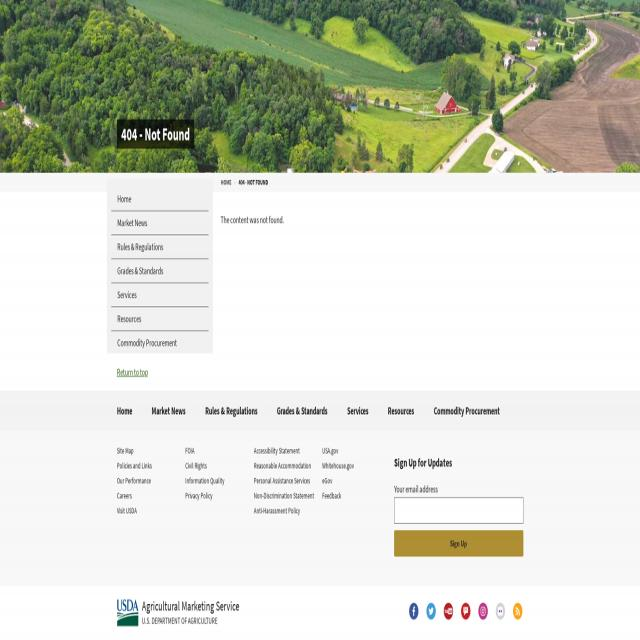button: (394, 530, 523, 556), (434, 390, 500, 431), (111, 187, 209, 210), (111, 211, 209, 234), (111, 235, 209, 258), (111, 259, 209, 282), (111, 283, 209, 306), (111, 307, 209, 330), (111, 331, 209, 354), (205, 390, 257, 431), (277, 390, 327, 431), (152, 390, 186, 431), (388, 390, 414, 431), (113, 391, 138, 432), (347, 390, 369, 431), (117, 600, 138, 626), (510, 598, 525, 624), (406, 598, 421, 624), (458, 598, 473, 624), (442, 597, 456, 623), (493, 598, 507, 624), (424, 598, 438, 624), (476, 598, 490, 624)
field: (394, 498, 523, 524)
